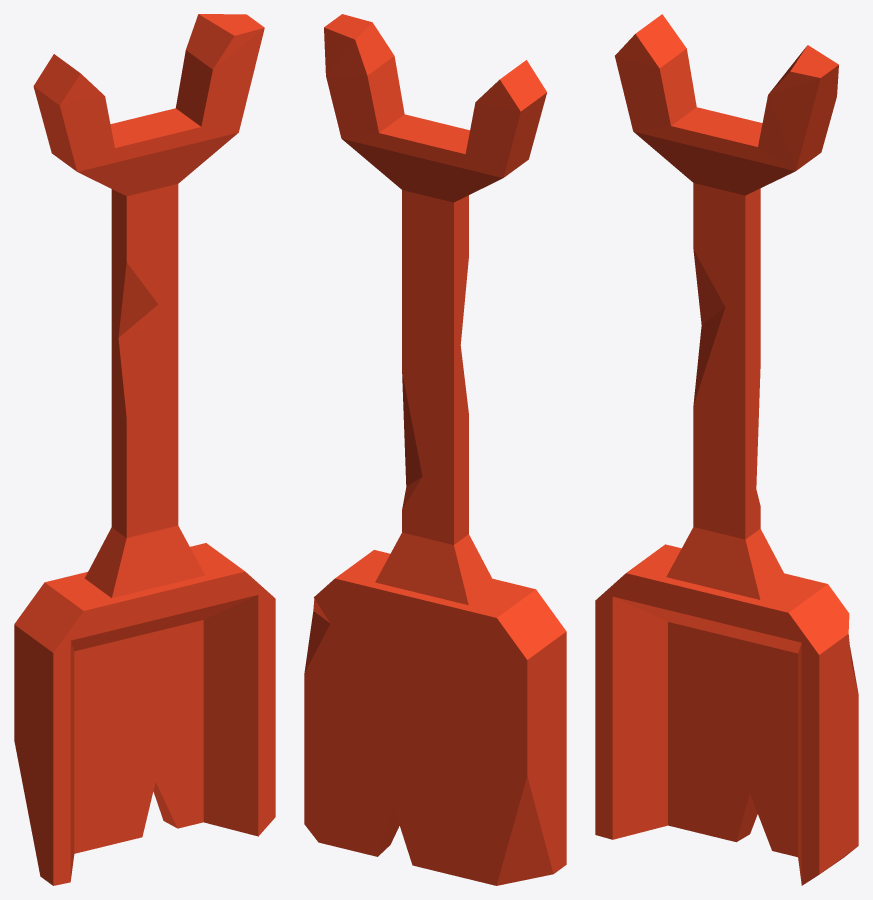
Rendered from SM_Shovel_Toy_Broken_City.fbx.
The picture shows the model from 3 angles, left to right: view 1: azimuth 30°, elevation 25°; view 2: azimuth 150°, elevation 25°; view 3: azimuth 330°, elevation 25°; orthographic projection.
Parts seen in each view (by area): view 1: SM_Shovel_Toy_Broken_City; view 2: SM_Shovel_Toy_Broken_City; view 3: SM_Shovel_Toy_Broken_City.
Part boxes in pixels (<box>): SM_Shovel_Toy_Broken_City: <box>14,14,275,885</box>; SM_Shovel_Toy_Broken_City: <box>304,14,566,885</box>; SM_Shovel_Toy_Broken_City: <box>595,14,858,885</box>.
Bounding box in the file's own units: 0.0771 × 0.2665 × 0.0235.
